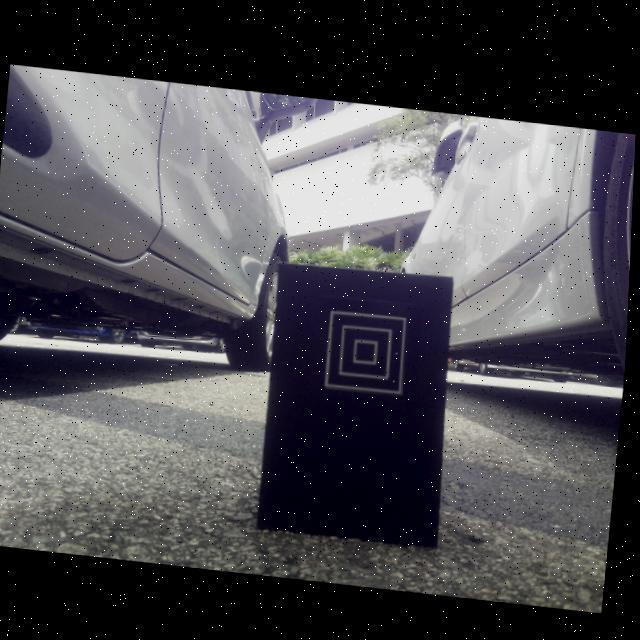BULLSEYE: (329, 307, 410, 391)
